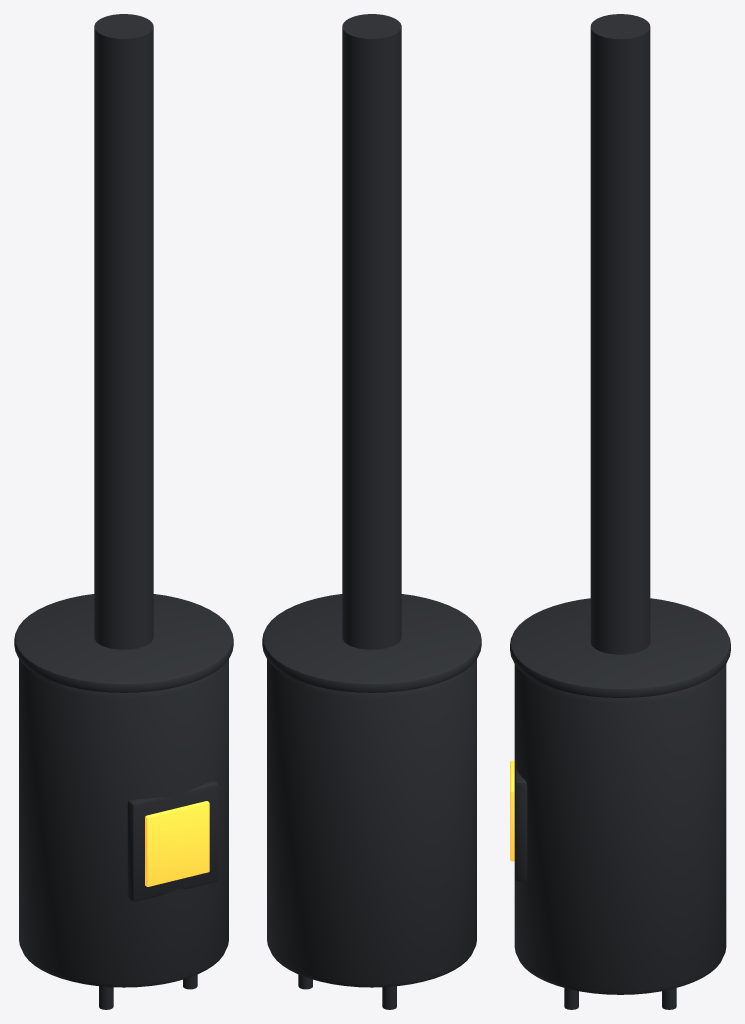
File: stove.glb
The picture shows the model from 3 angles, left to right: view 1: azimuth 30°, elevation 25°; view 2: azimuth 150°, elevation 25°; view 3: azimuth 270°, elevation 25°; orthographic projection.
Visible parts, largest first — view 1: cyl.004, cyl.006, cyl.005, box.001, box; view 2: cyl.004, cyl.006, cyl.005; view 3: cyl.004, cyl.006, cyl.005, box.
Boxes of the visible parts, x1,y1,x2,y2 form: cyl.004: [19, 659, 228, 987]; cyl.006: [94, 14, 153, 649]; cyl.005: [14, 594, 233, 692]; box.001: [145, 801, 209, 886]; box: [127, 780, 218, 901]; cyl.004: [267, 659, 476, 987]; cyl.006: [342, 14, 401, 649]; cyl.005: [262, 594, 481, 692]; cyl.004: [514, 664, 726, 994]; cyl.006: [590, 14, 650, 654]; cyl.005: [510, 598, 730, 697]; box: [514, 765, 527, 880].
Size of the model in its own units: 48 by 230 by 48.
